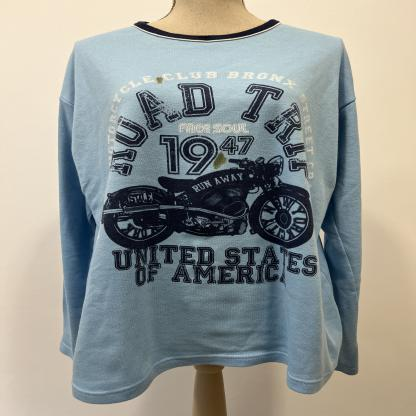stain: (211, 150, 230, 172), (153, 75, 164, 86)
